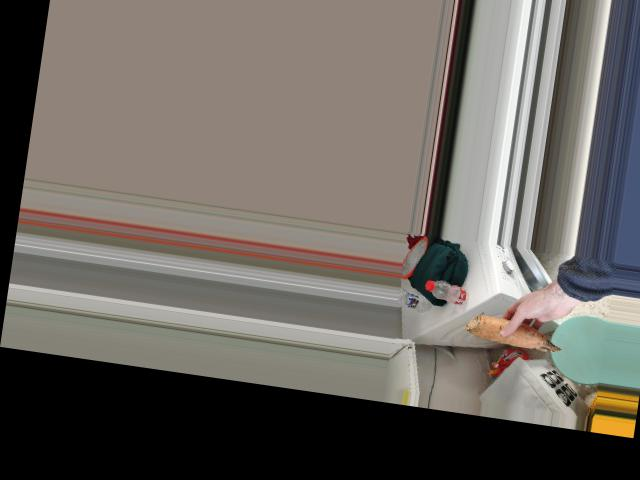sweet_potato: (460, 309, 559, 349)
